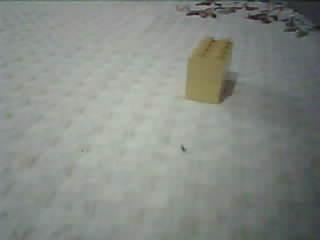lego: (183, 35, 233, 105)
